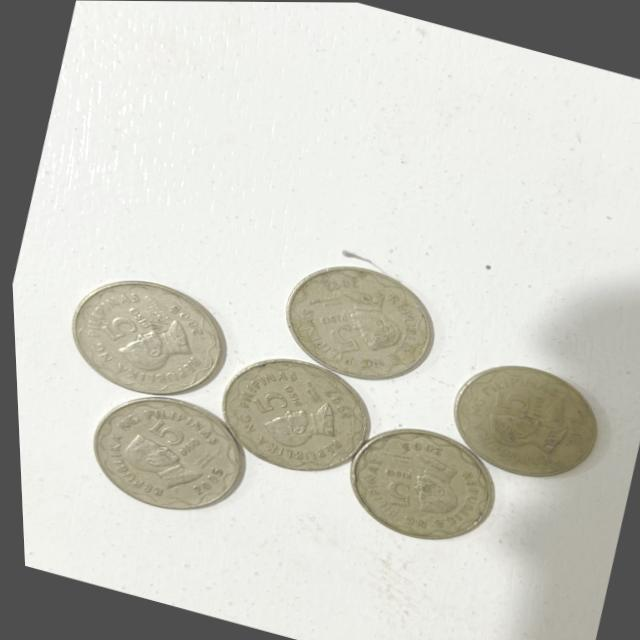5_Old_Front: (301, 306, 373, 367), (132, 407, 204, 468), (362, 456, 425, 519), (247, 373, 316, 430), (488, 377, 550, 428), (100, 302, 158, 352)
